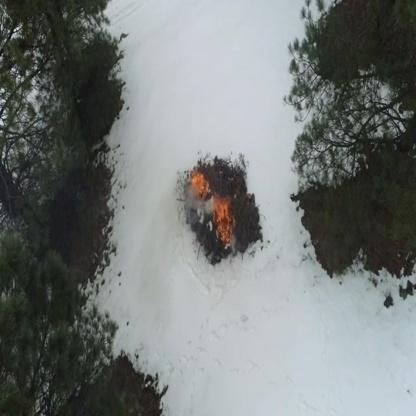Fire: (214, 196, 232, 221), (192, 174, 210, 196), (218, 221, 232, 240)
